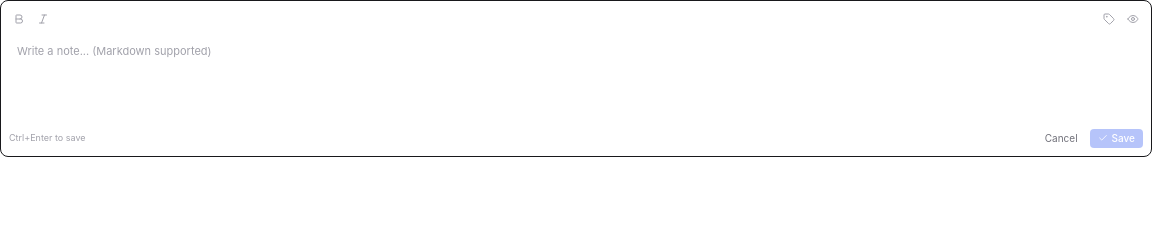
NoteEditor › tag management › lowercases tags and trims whitespace
This screenshot has width=1152, height=230.
Click the button titled "Add tags": coordinates (1109, 19) [1099,9,1119,29]
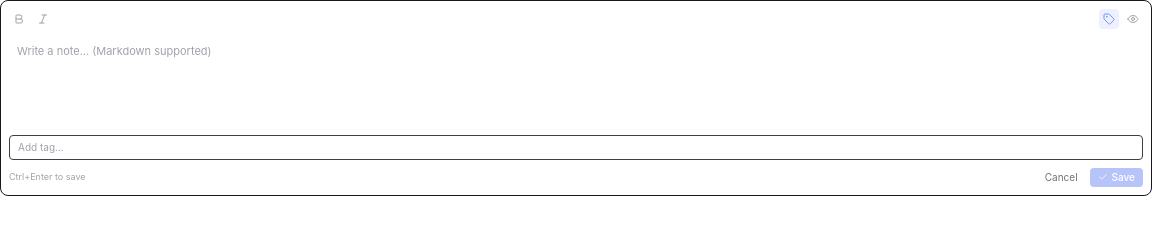
In the field with placeholder "Add tag...": coordinates (576, 147) [9,134,1143,160], type "  IMPORTANT  "
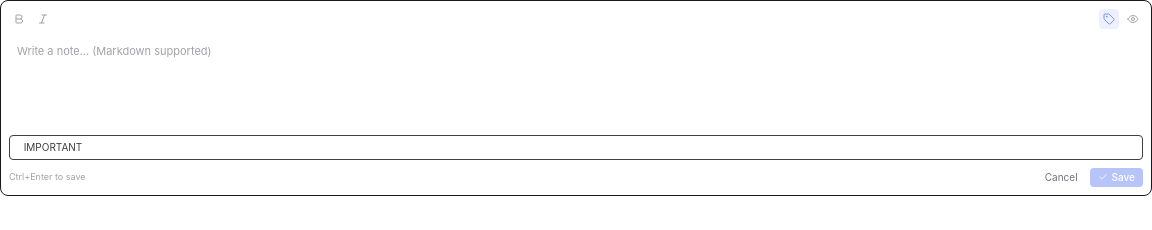
Press Enter in the field with placeholder "Add tag...", box [9,134,1143,160]
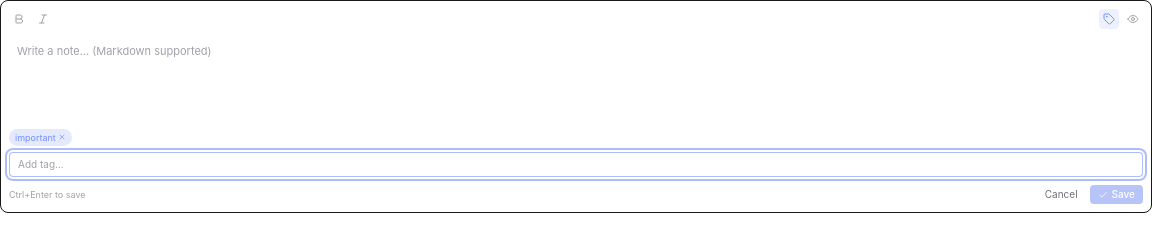
Now the text "important" is shown, box [9,128,72,146]
